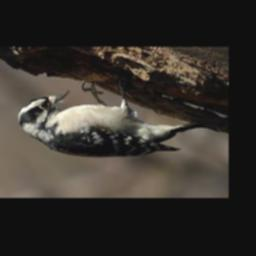Woodpecker: (19, 81, 208, 157)
